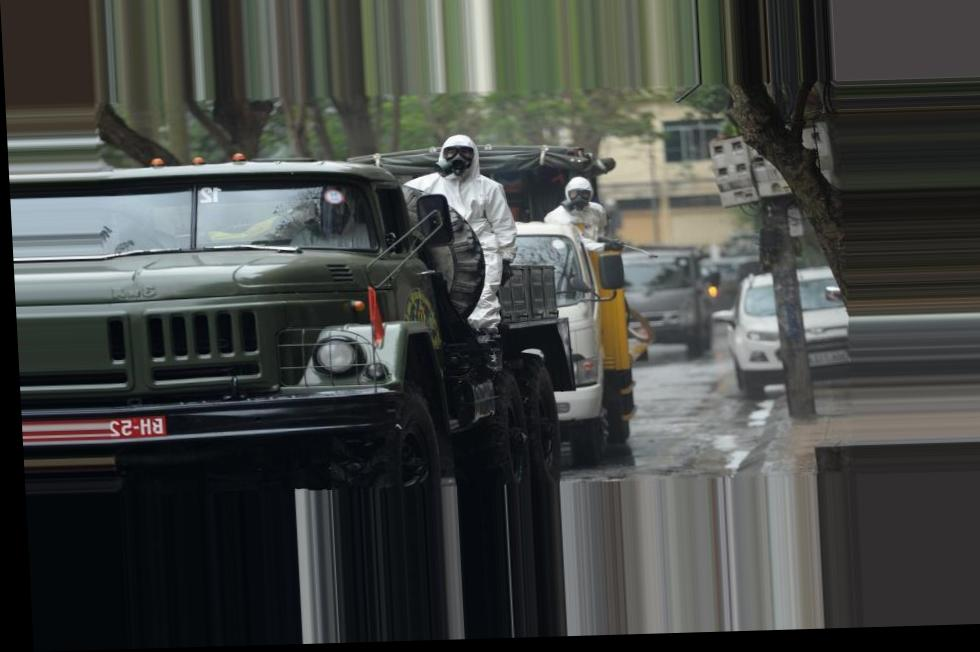License_Plate: (88, 409, 173, 448)
